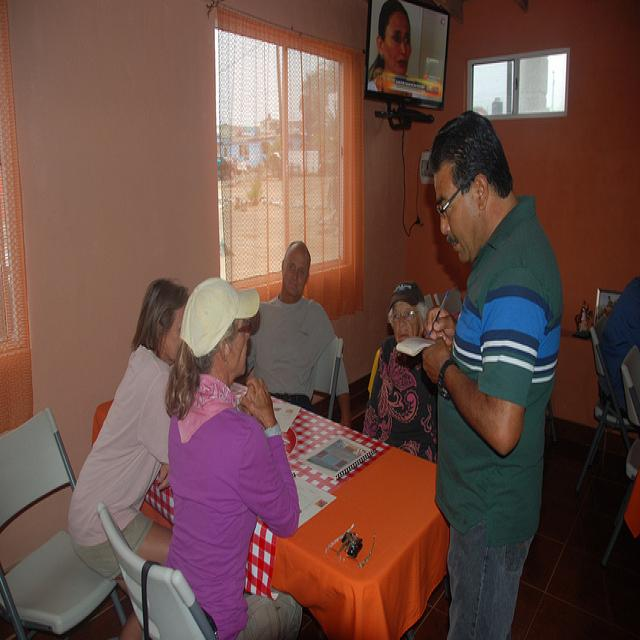chair: (0, 407, 126, 639), (97, 501, 218, 640), (575, 314, 638, 495), (315, 335, 344, 420), (621, 347, 640, 427)
